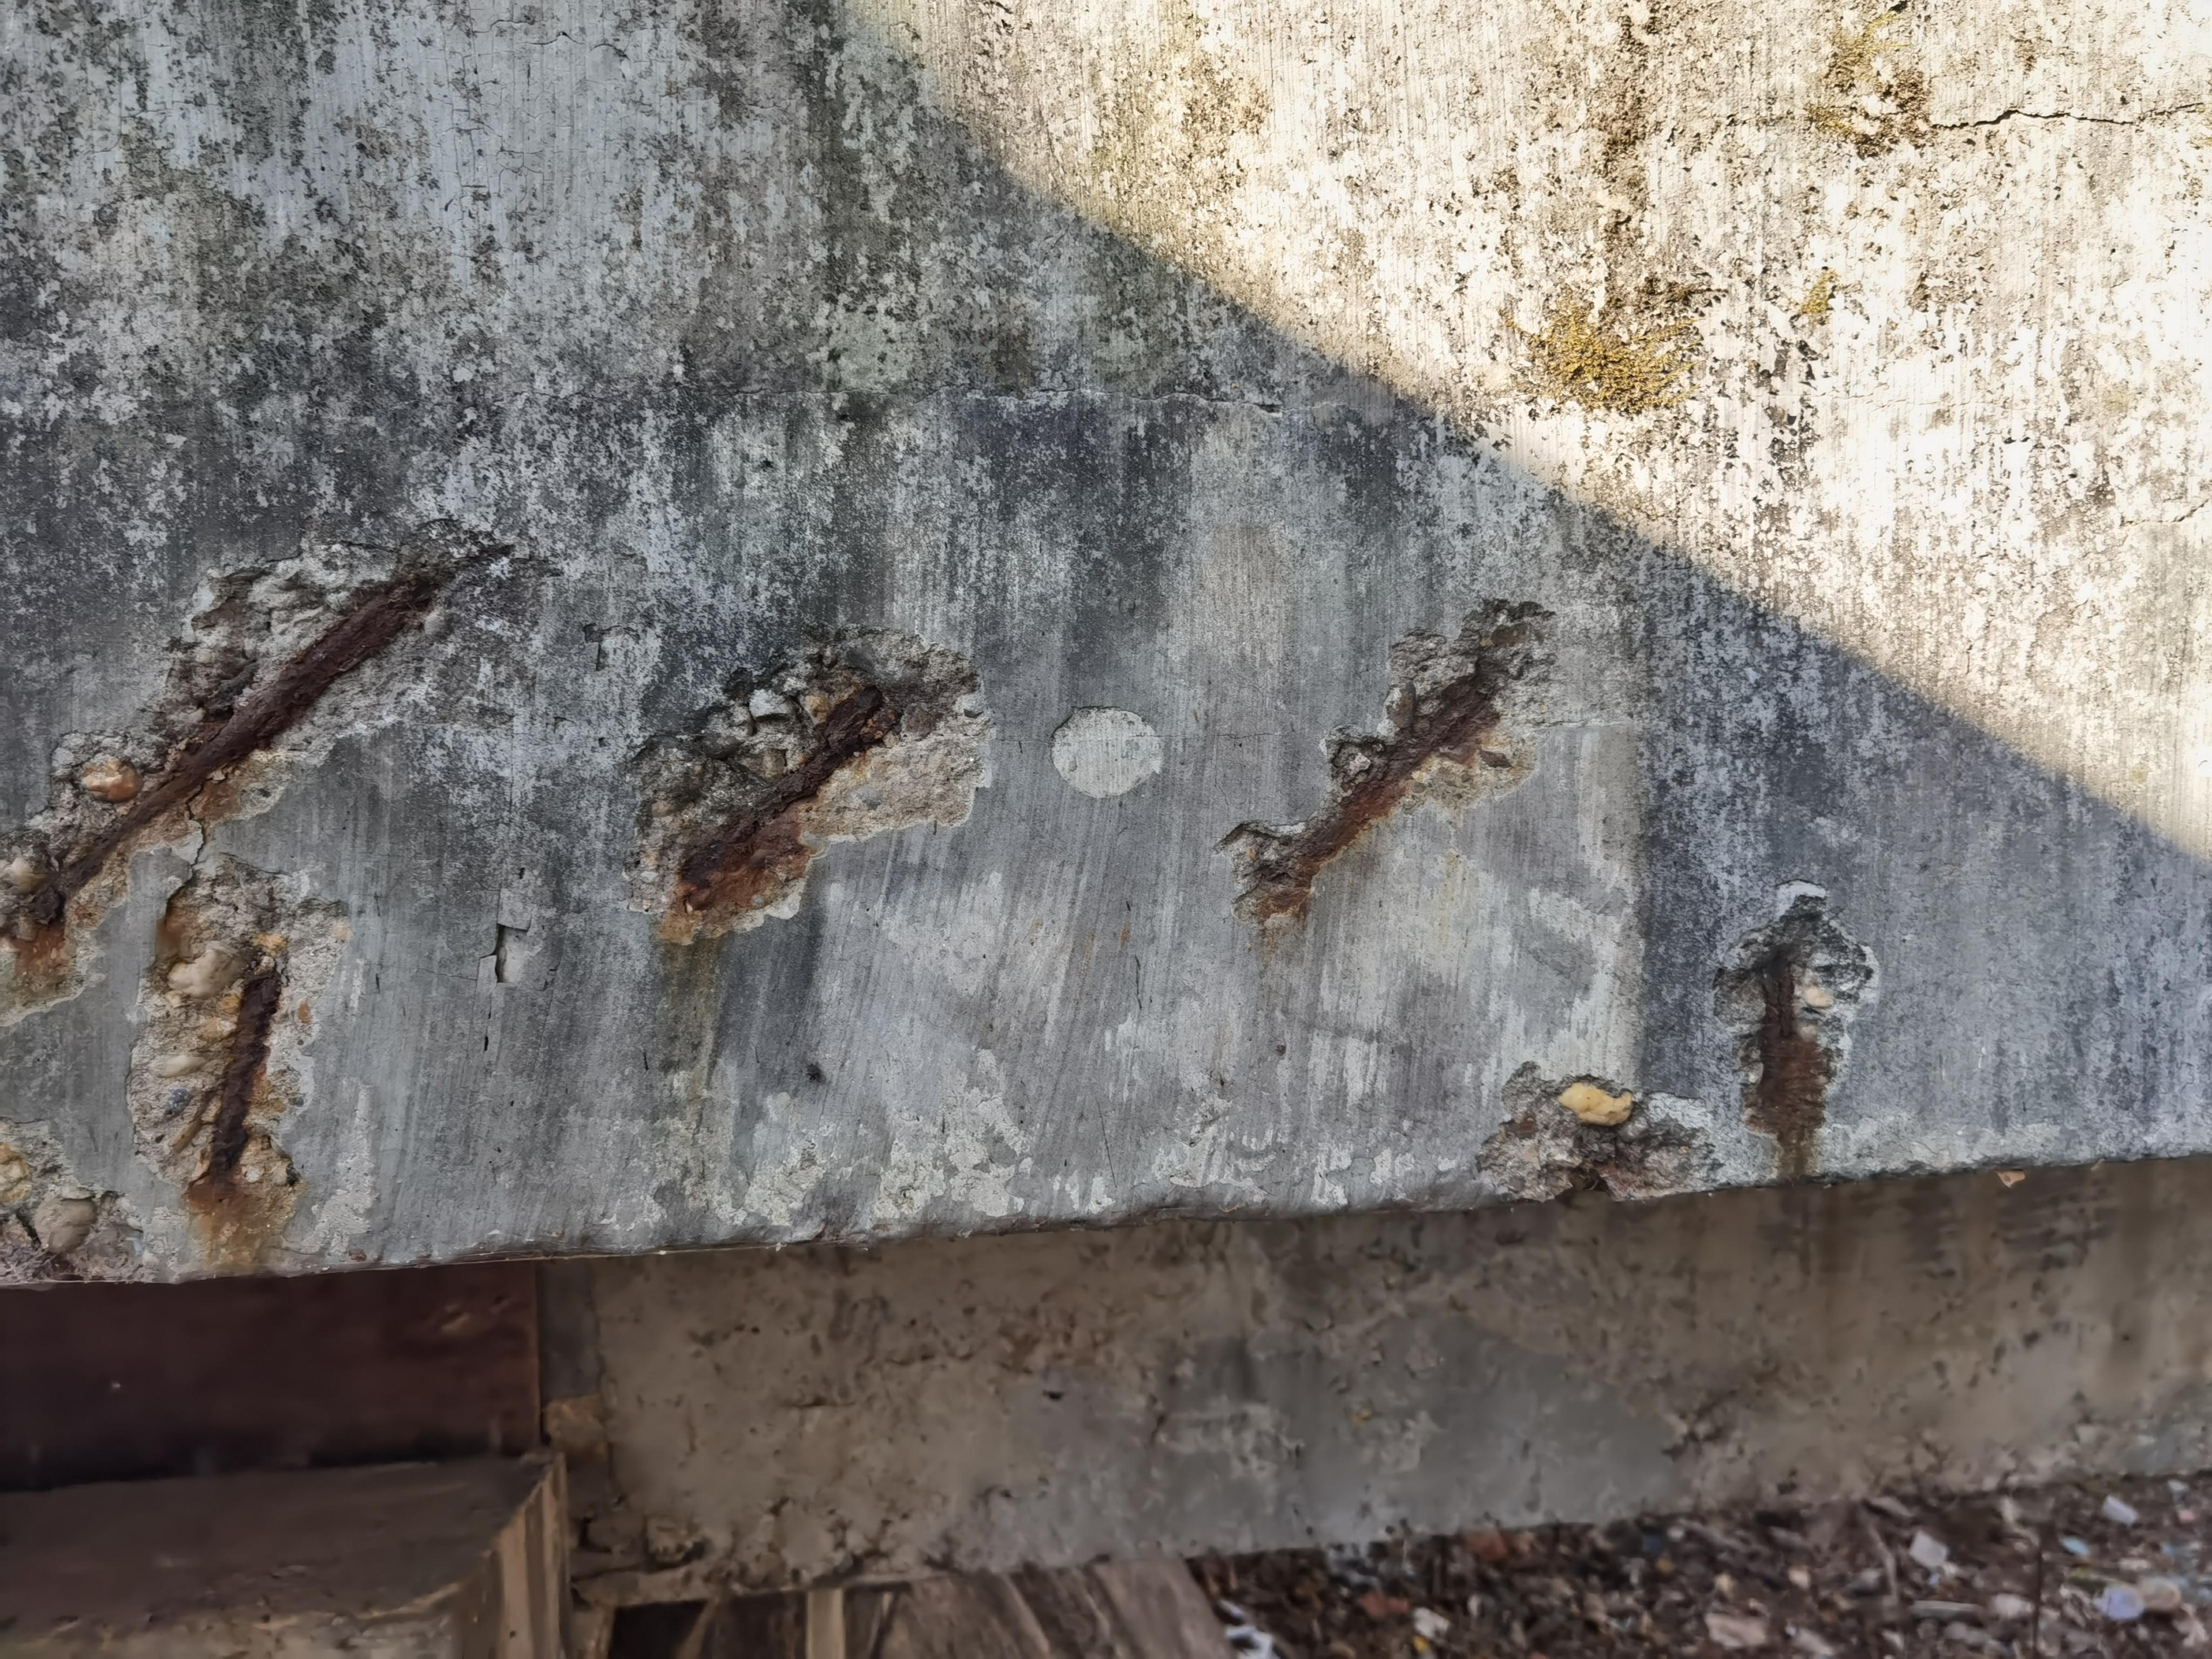rebar: (35, 584, 428, 917), (1303, 685, 1494, 871), (733, 687, 885, 845), (207, 964, 284, 1187), (1761, 957, 1797, 1087)
separation: (1871, 42, 2212, 136)
spall: (0, 528, 456, 1025), (1221, 596, 1561, 931), (643, 627, 1001, 943), (122, 857, 338, 1199), (1712, 875, 1876, 1169), (1477, 1060, 1717, 1206), (0, 1119, 153, 1286)
